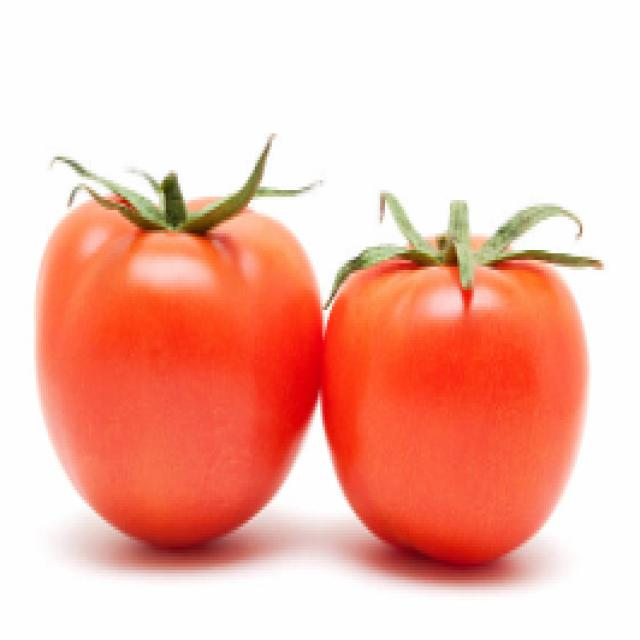Tomato: (44, 139, 322, 547), (294, 201, 592, 564)
